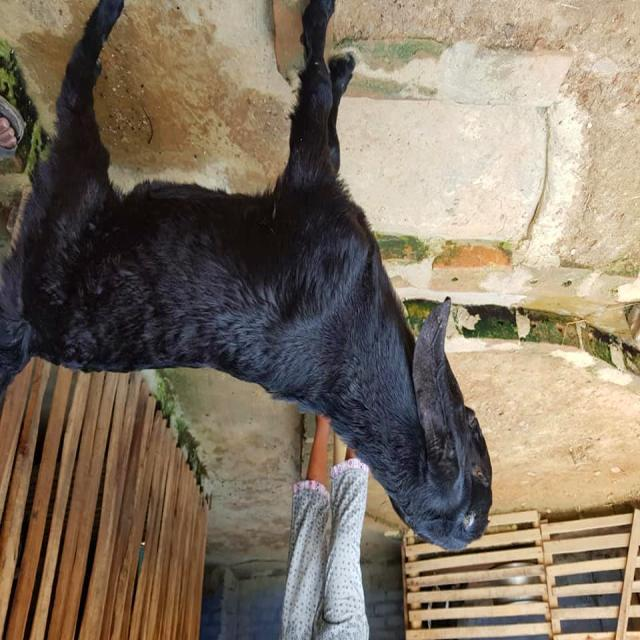Goat: (0, 1, 493, 554)
